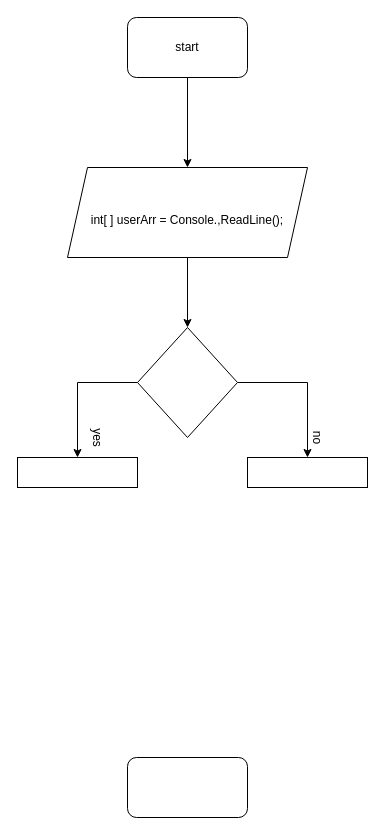
The diagram is 385 pixels wide and 835 high, and some of its shapes have lost their labels. The shapes that lost their labels are listed below. From the top down, each one's centre as x and y in pixels, then its label:
point (187, 382): CheckArr(int[])
point (187, 787): end
